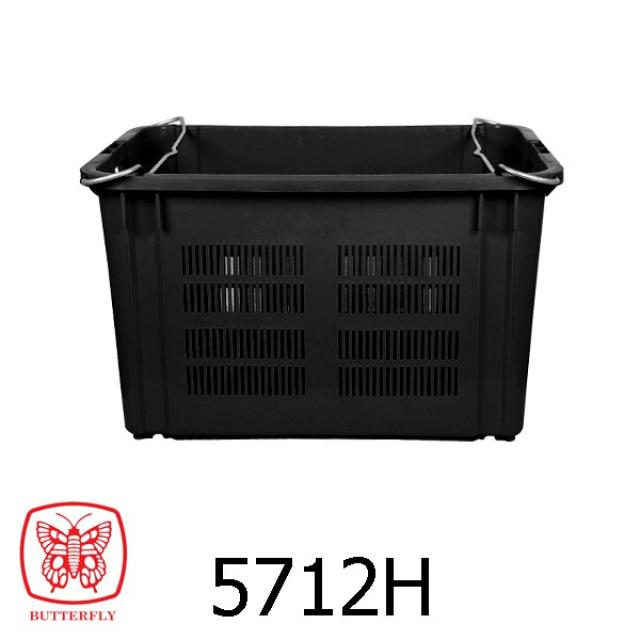basket: (81, 119, 564, 441)
